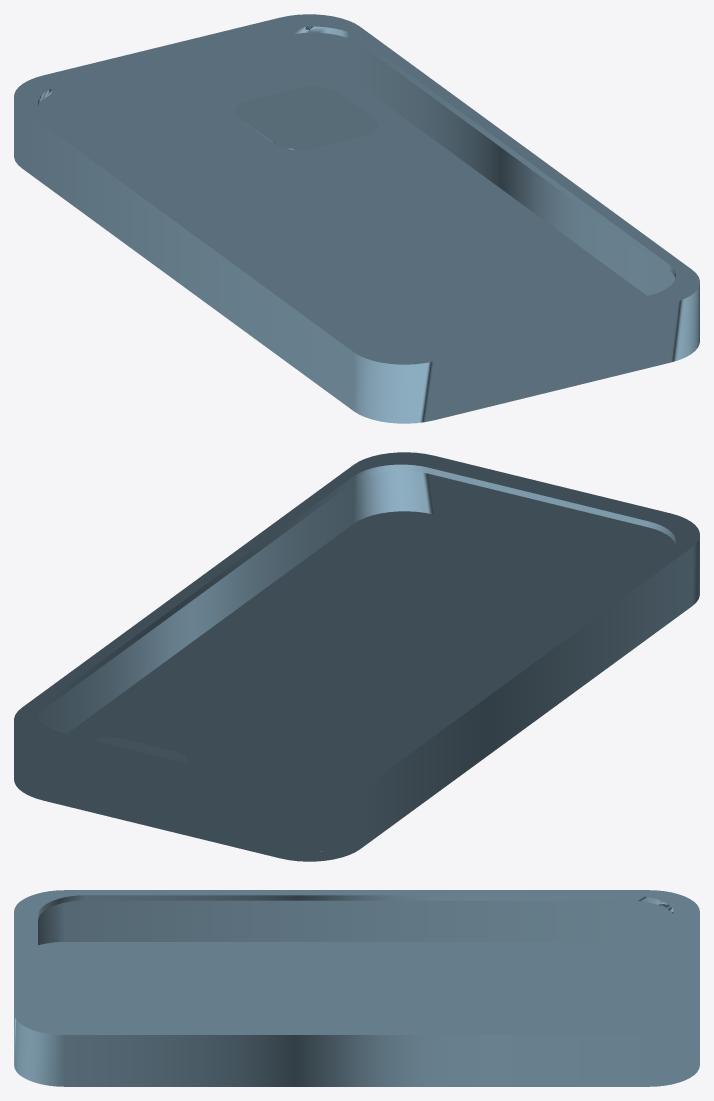
The picture shows the model from 3 angles, top to bottom: view 1: azimuth 30°, elevation 25°; view 2: azimuth 150°, elevation 25°; view 3: azimuth 270°, elevation 25°; orthographic projection. The views are drawn at different scales.
Parts seen in each view (by area): view 1: 手机_外壳; view 2: 手机_外壳; view 3: 手机_外壳.
Boxes of the visible parts, x1,y1,x2,y2 form: 手机_外壳: (14,14,699,423); 手机_外壳: (14,452,699,861); 手机_外壳: (14,890,699,1086).
Bounding box in the file's own units: 0.0775 × 0.0153 × 0.155.
